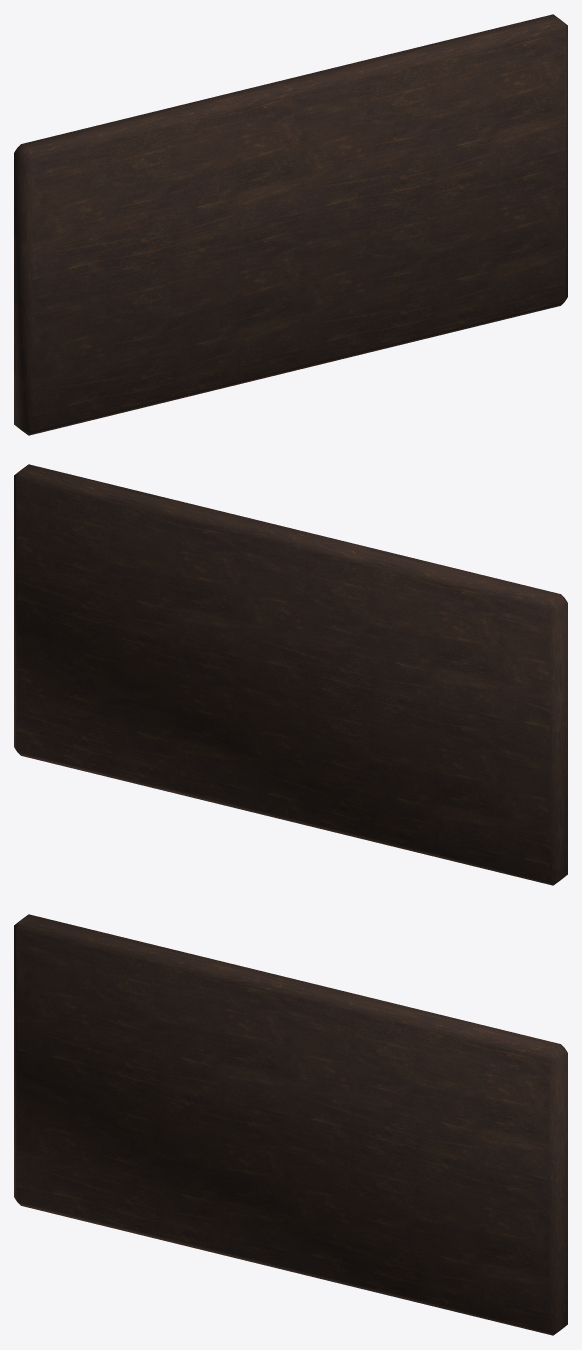
File: Panel.glb
3 views of the same model, one above another, from view 1: azimuth 30°, elevation 25°; view 2: azimuth 150°, elevation 25°; view 3: azimuth 330°, elevation 25° (orthographic).
Parts seen in each view (by area): view 1: Cube; view 2: Cube; view 3: Cube.
Boxes of the visible parts, bbox=[...] form: Cube: bbox=[14, 14, 567, 435]; Cube: bbox=[14, 464, 567, 885]; Cube: bbox=[14, 914, 567, 1335].
Size of the model in its own units: 1 by 0.5 by 0.05.
Materials: 1 (1 with a texture image).
